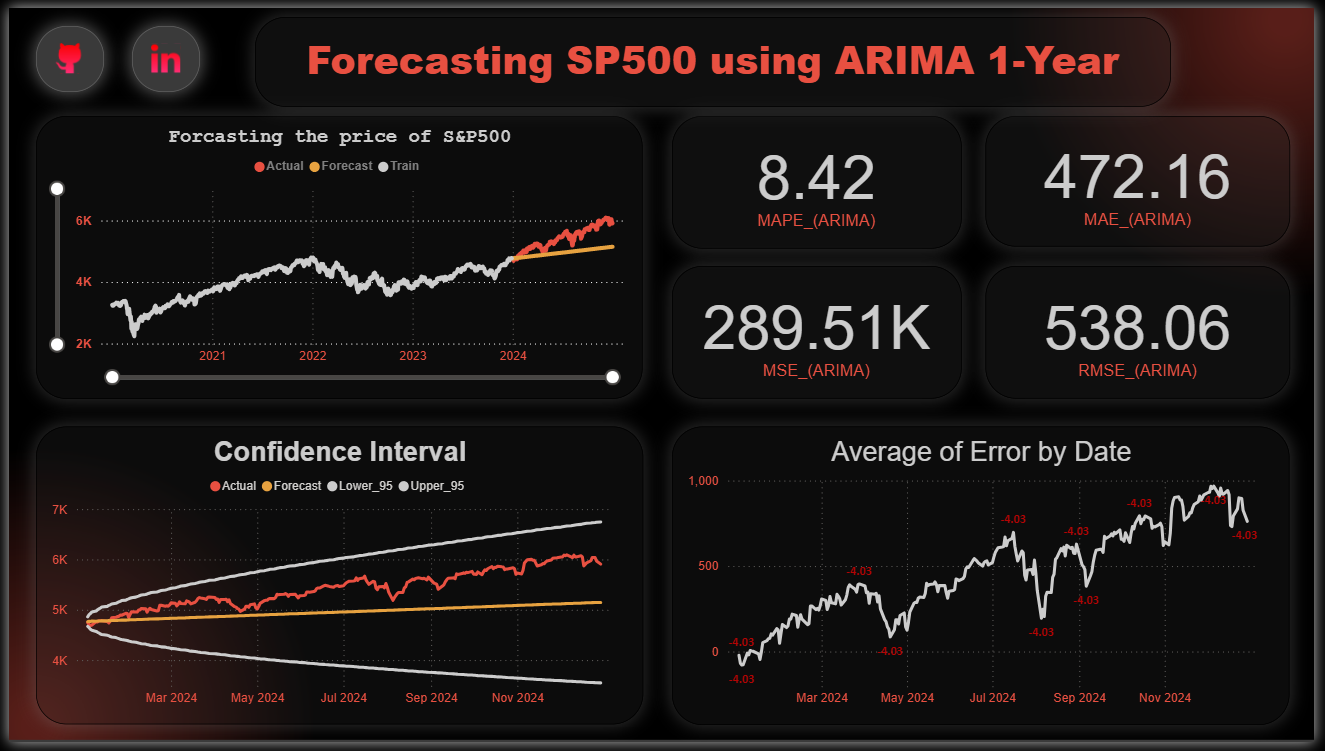

Layout of this report page (visuals, bound fields, positions):
{"tool":"powerbi","page":{"name":"ARIMA 1-YEAR","canvas":[1280,720],"ordinal":2},"visuals":[{"type":"lineChart","title":"Confidence Interval","fields":{"Y":["Sum(sp500_combined2024.Actual)","Sum(sp500_confidence2024.Forecast)","Sum(sp500_confidence2024.Lower_95)","Sum(sp500_confidence2024.Upper_95)"],"Category":["sp500_confidence2024.Date"]},"box":[27,410,595,292],"z":4},{"type":"lineChart","title":"Forcasting the price of S&P500","fields":{"Series":["SP500_All2024.Source"],"Y":["Sum(SP500_All2024.Value)"],"Category":["SP500_All2024.Date"]},"box":[26.9,105.4,594.6,277.4],"z":5},{"type":"lineChart","title":"Average of Error by Date","fields":{"Y":["Sum(sp500_combined2024.Error2024)"],"Category":["sp500_combined2024.Date"]},"box":[650.5,409.7,605.4,292.5],"z":6},{"type":"card","fields":{"Values":["SP500_All2024.MAPE2"]},"box":[650.5,105.4,283.9,130.1],"z":7},{"type":"card","fields":{"Values":["SP500_All2024.MSE2"]},"box":[650.5,252.7,283.9,130.1],"z":8},{"type":"card","fields":{"Values":["SP500_All2024.MAE2"]},"box":[957,105.4,298.9,128],"z":9},{"type":"card","fields":{"Values":["SP500_All2024.RMSE2"]},"box":[957,252.7,298.9,130.1],"z":10},{"type":"textbox","box":[241.1,0,897.8,86.7],"z":11},{"type":"actionButton","box":[26.7,17.8,66.7,64.4],"z":12},{"type":"actionButton","box":[121.1,17.8,66.7,64.4],"z":13}]}

Visuals, with their boxes in screenshot pixels (x1, y1, x2, y2), scaled from the page's 1280x720 canvas onto the 1325x751 screenshot:
"Confidence Interval" lineChart: (left=28, top=428, right=644, bottom=732)
"Forcasting the price of S&P500" lineChart: (left=28, top=110, right=643, bottom=399)
"Average of Error by Date" lineChart: (left=673, top=427, right=1300, bottom=732)
card - SP500_All2024.MAPE2: (left=673, top=110, right=967, bottom=246)
card - SP500_All2024.MSE2: (left=673, top=264, right=967, bottom=399)
card - SP500_All2024.MAE2: (left=991, top=110, right=1300, bottom=243)
card - SP500_All2024.RMSE2: (left=991, top=264, right=1300, bottom=399)
textbox: (left=250, top=0, right=1179, bottom=90)
actionButton: (left=28, top=19, right=97, bottom=86)
actionButton: (left=125, top=19, right=194, bottom=86)
